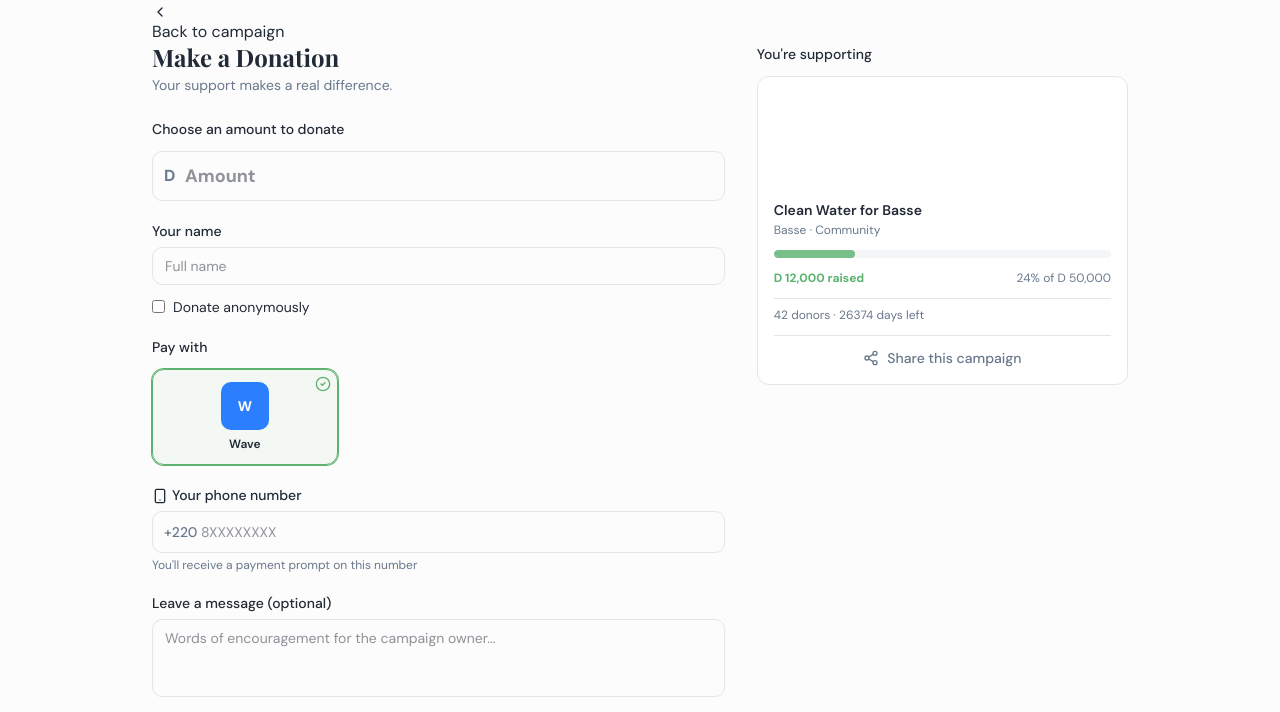
Test: DonateCheckout › rejects an amount above the per-transaction maximum
Type "999999" into the number field with placeholder "Amount" at (438, 176), box [152,151,725,201]
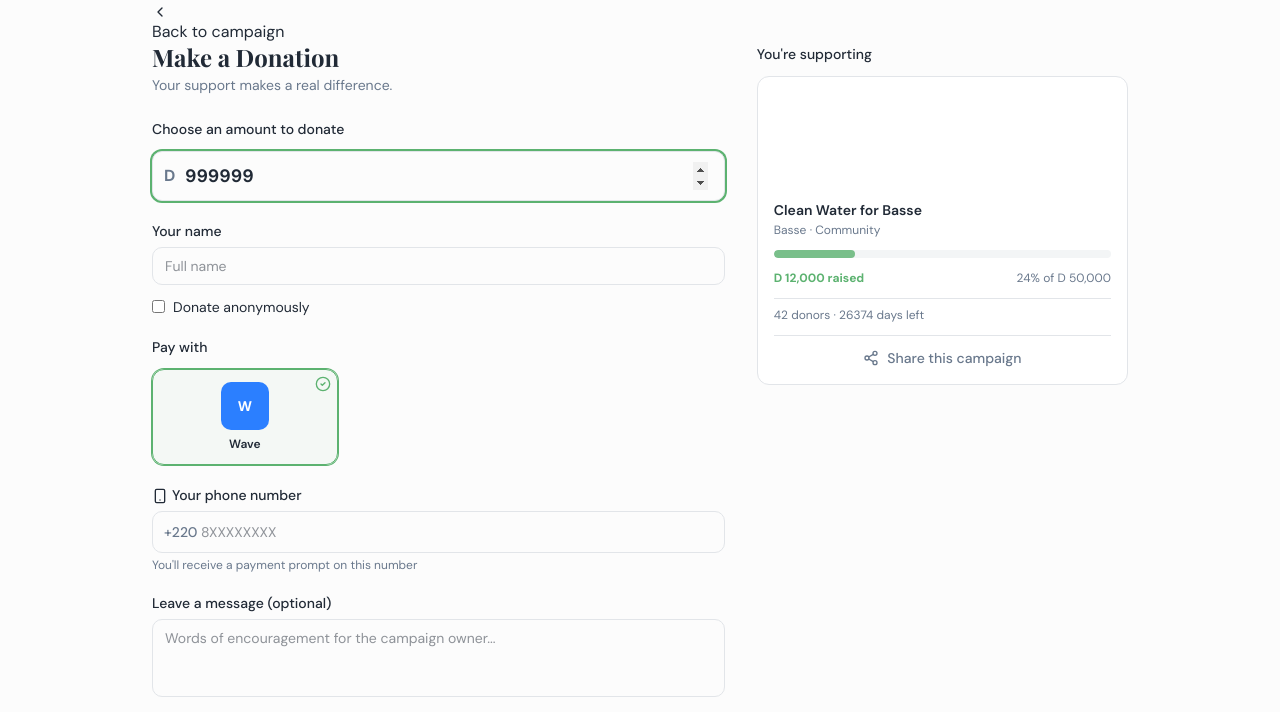
Type "Amie Jallow" into the field with placeholder "Full name" at (438, 266), box [152,247,725,285]
(page scrolled)
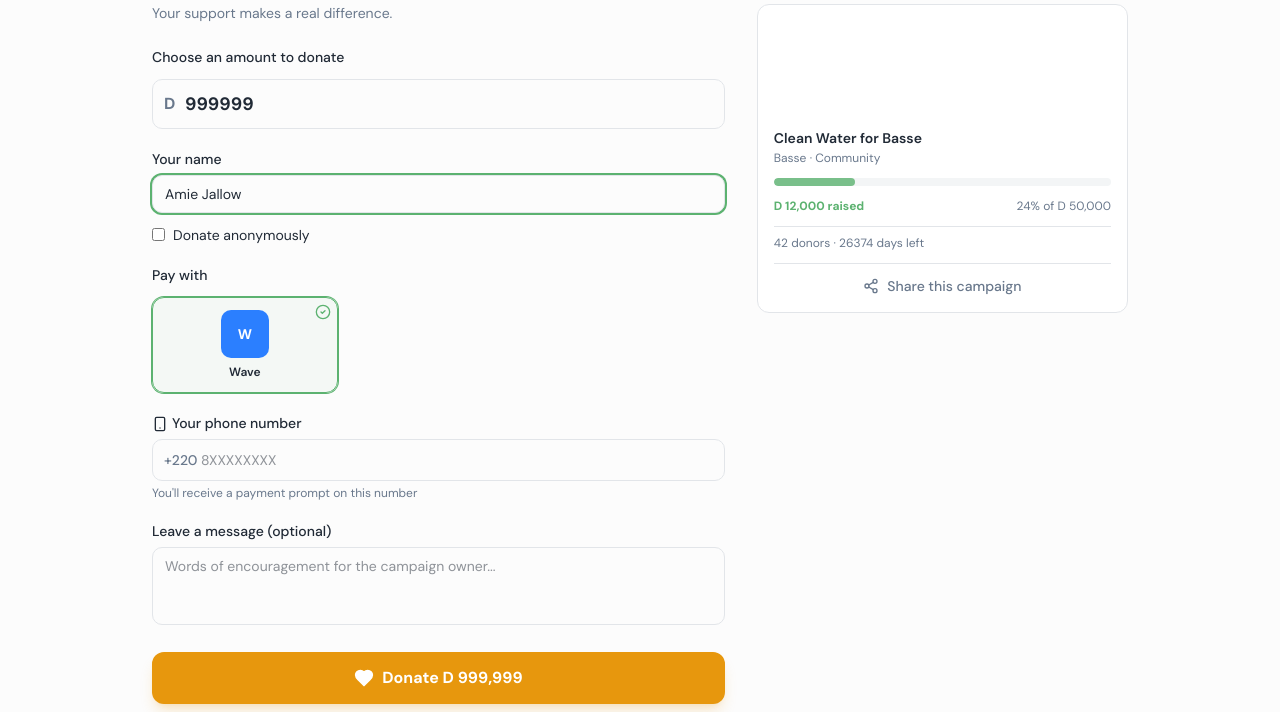
Click the button "Donate D 999,999" at (438, 678), box [152,652,725,704]
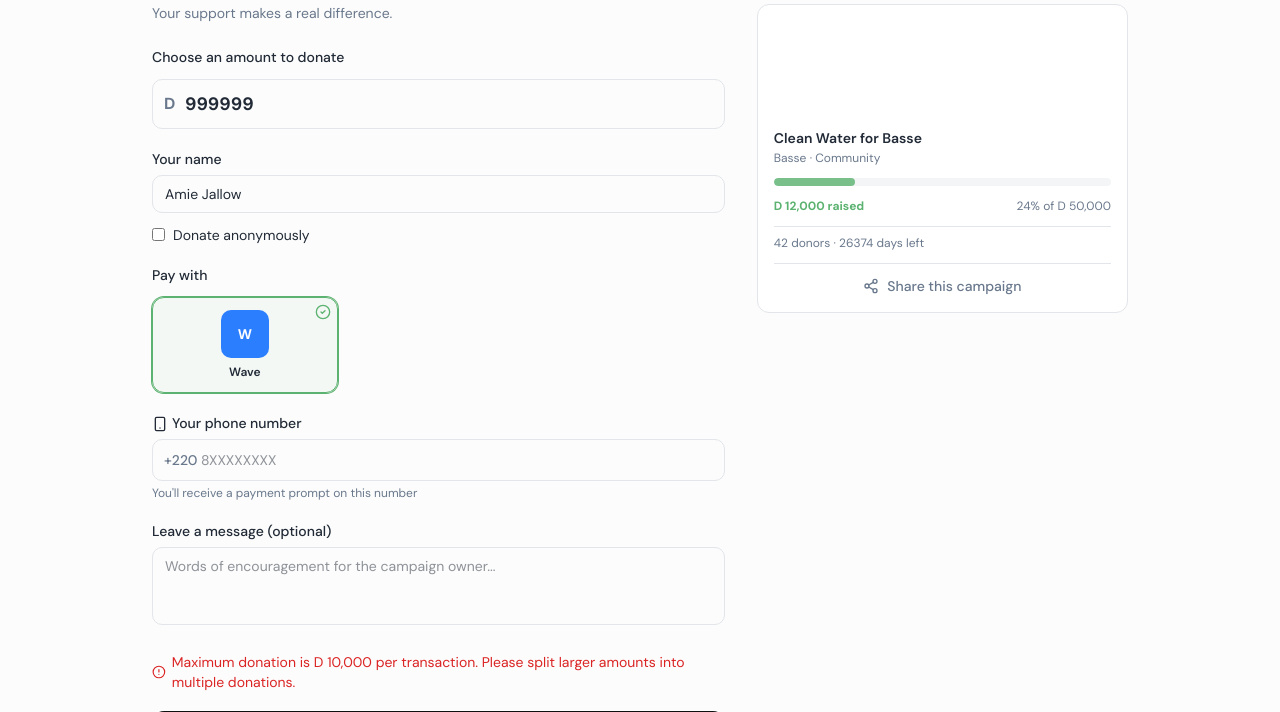
Check: the text "Maximum donation is" is shown, box [172,653,684,691]
